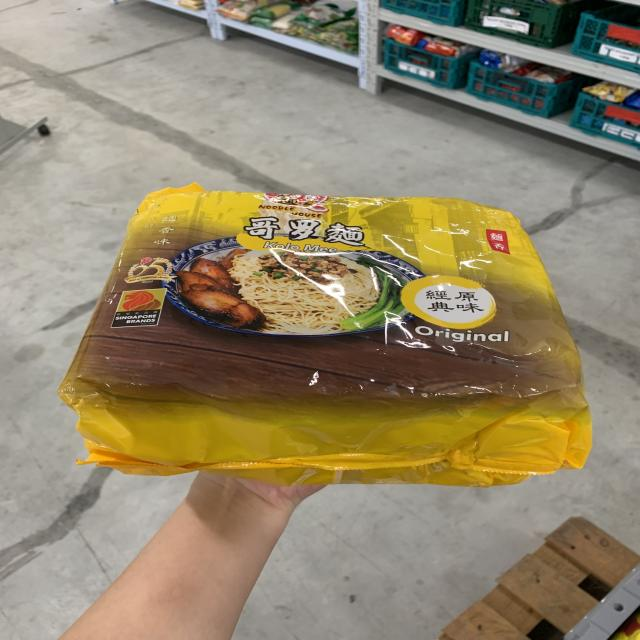object_name: (96, 194, 571, 459)
